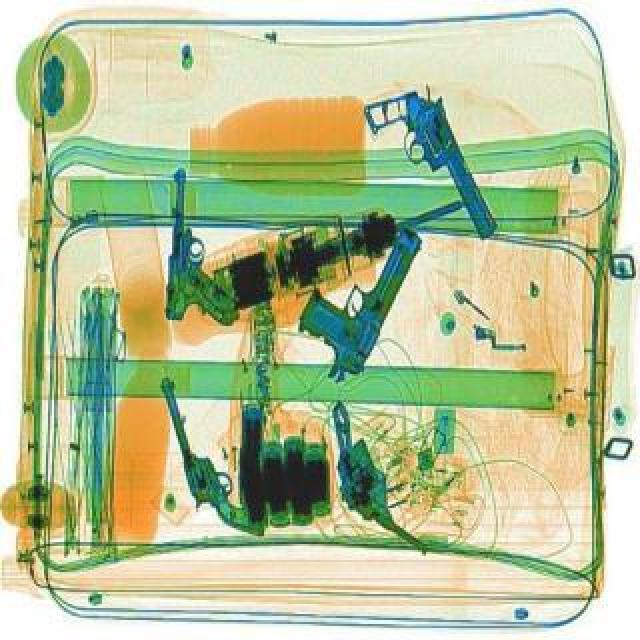gun: (284, 396, 476, 556), (276, 204, 426, 384), (358, 78, 502, 260), (156, 362, 266, 546), (162, 166, 250, 324)
